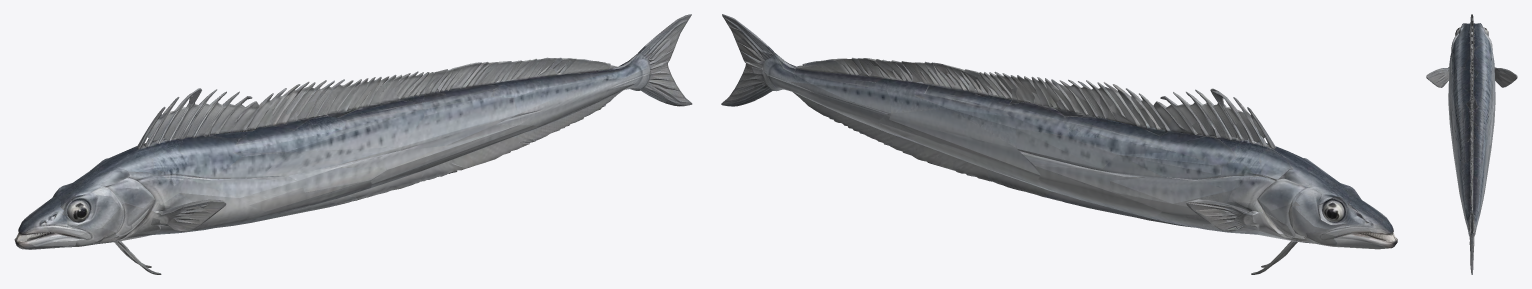
The model's file is fishHairtail.glb.
3 renders of one model, left to right at view 1: azimuth 30°, elevation 25°; view 2: azimuth 150°, elevation 25°; view 3: azimuth 270°, elevation 25°, orthographic. The views are drawn at different scales.
Visible parts, largest first — view 1: Mesh_0; view 2: Mesh_0; view 3: Mesh_0.
Boxes of the visible parts, x1=… form: Mesh_0: x1=14, y1=14, x2=692, y2=274; Mesh_0: x1=721, y1=14, x2=1397, y2=274; Mesh_0: x1=1426, y1=14, x2=1517, y2=274.
Size of the model in its own units: 0.4 by 0.0973 by 0.0688.
Materials: 1 (1 with a texture image).
